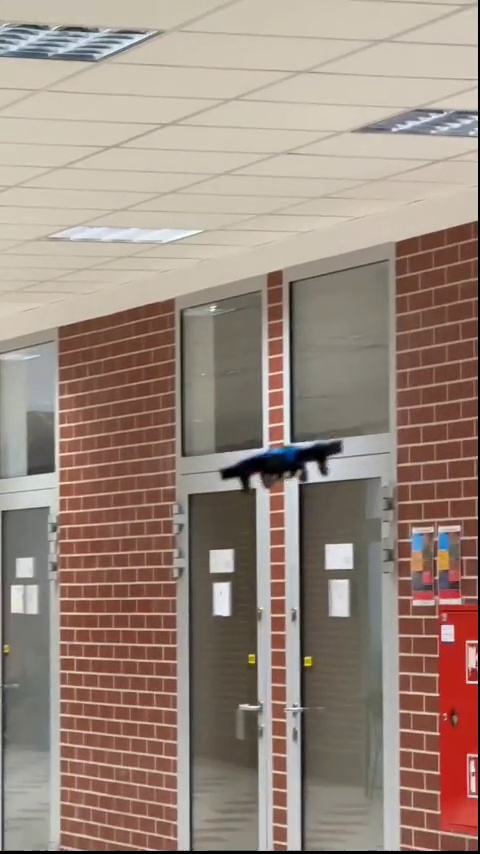drone: (214, 438, 345, 487)
